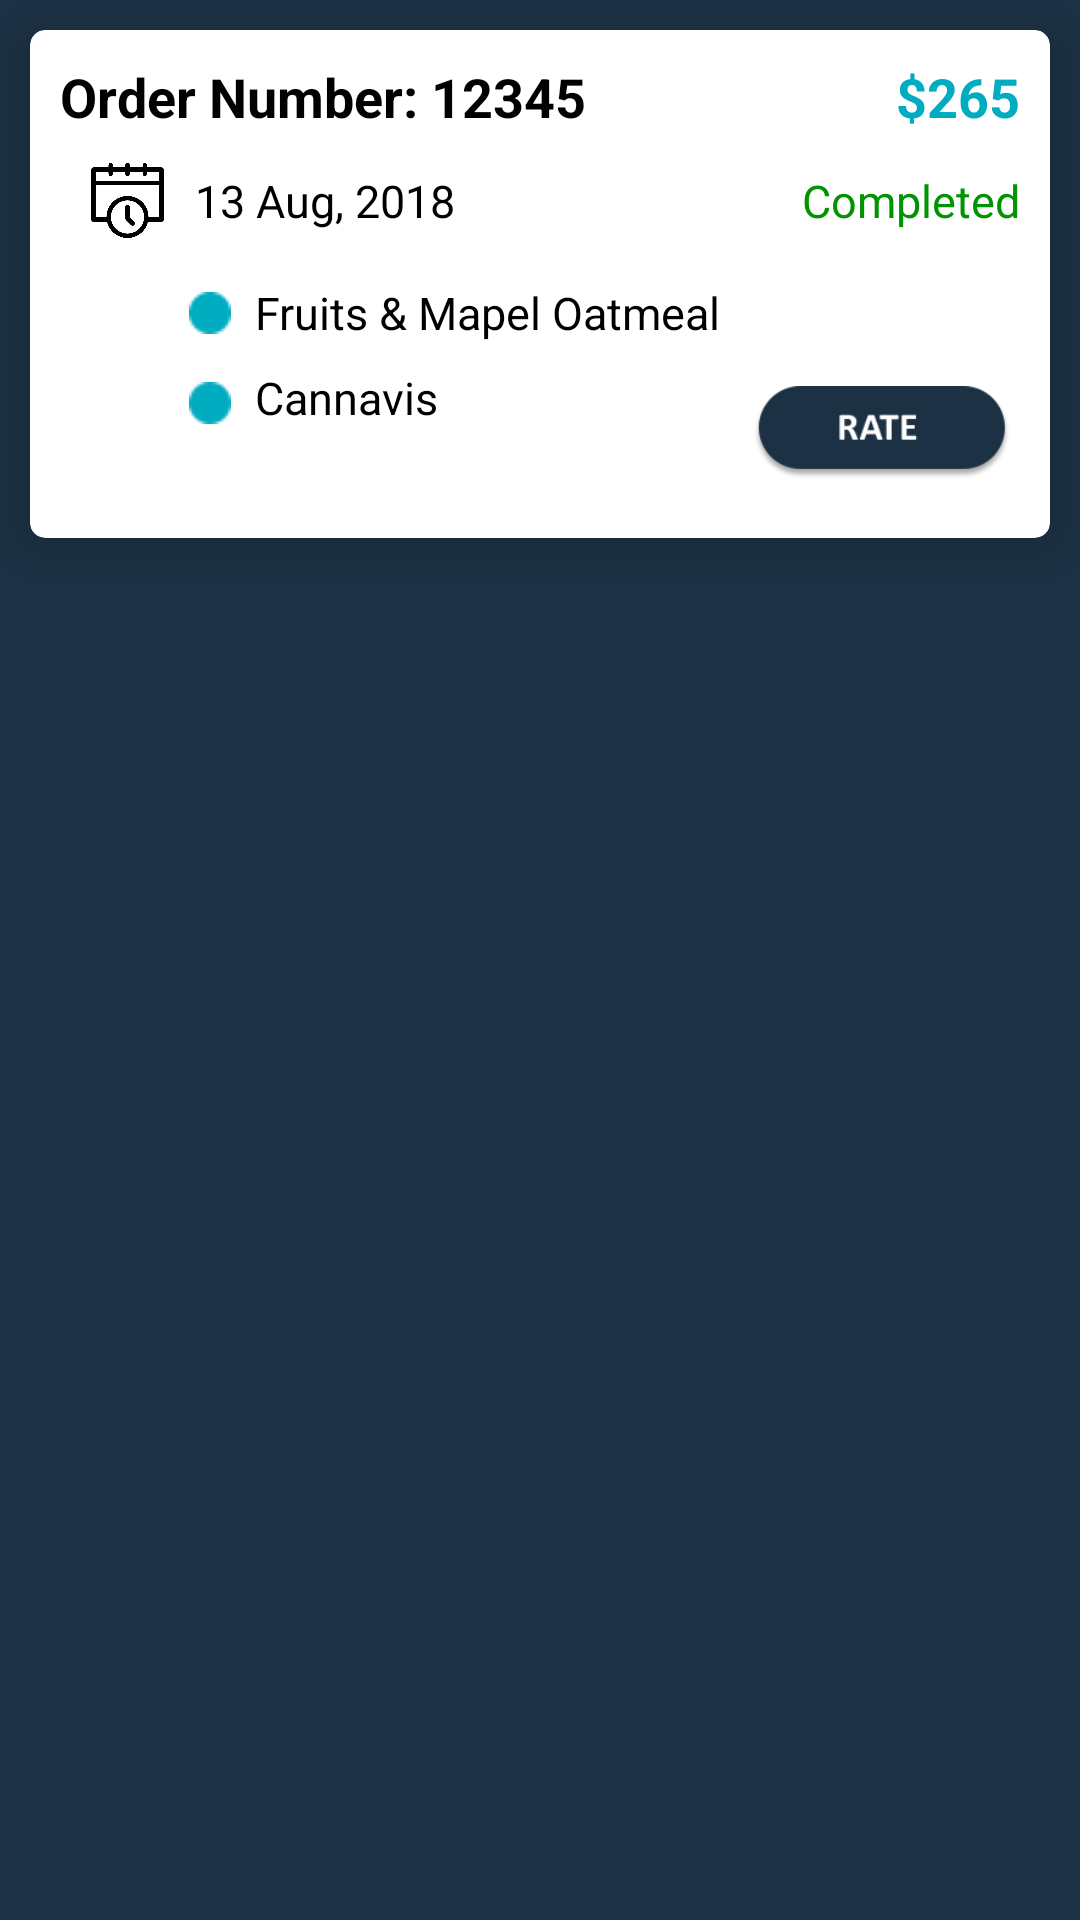

Locate icon controls on the screen. Image size 1080x1920, boxes as (left=x1, top=y1, right=x2, bottom=y2).
clock: (left=91, top=163, right=164, bottom=238)
